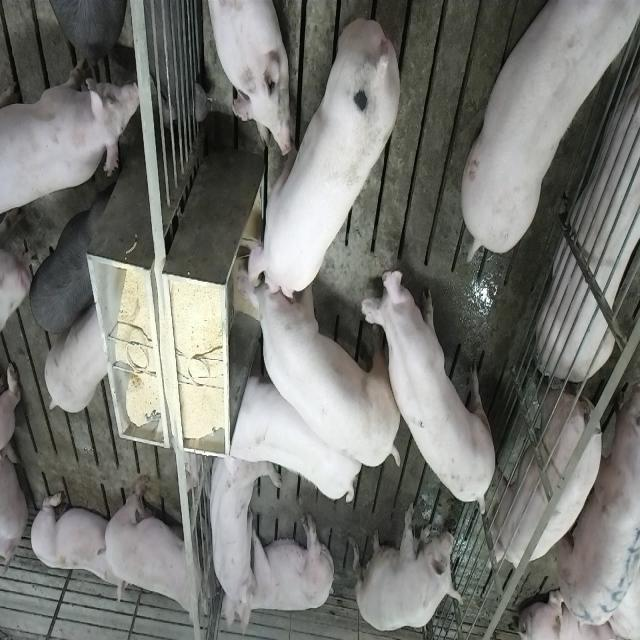Feeding: (240, 16, 403, 304), (236, 256, 404, 470)
Lateral_lying: (232, 510, 336, 626)
Sitting: (354, 501, 460, 633), (204, 445, 270, 630)
Standing: (464, 0, 640, 257), (366, 263, 499, 521), (486, 360, 610, 570), (2, 58, 140, 225), (554, 372, 640, 630), (226, 364, 362, 507), (100, 472, 206, 622), (29, 184, 111, 338), (44, 303, 110, 413), (43, 2, 128, 58)
Sternal_lying: (540, 44, 640, 378), (203, 0, 291, 158), (28, 485, 124, 603)
